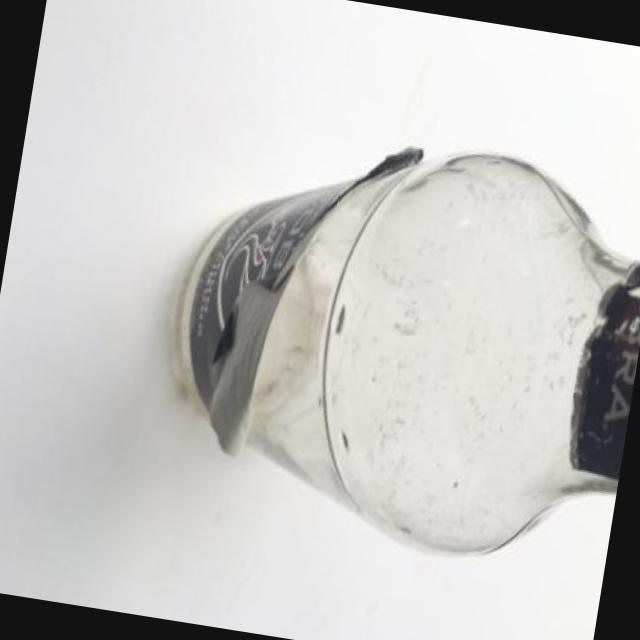chai_thuy_tinh: (175, 149, 640, 553)
